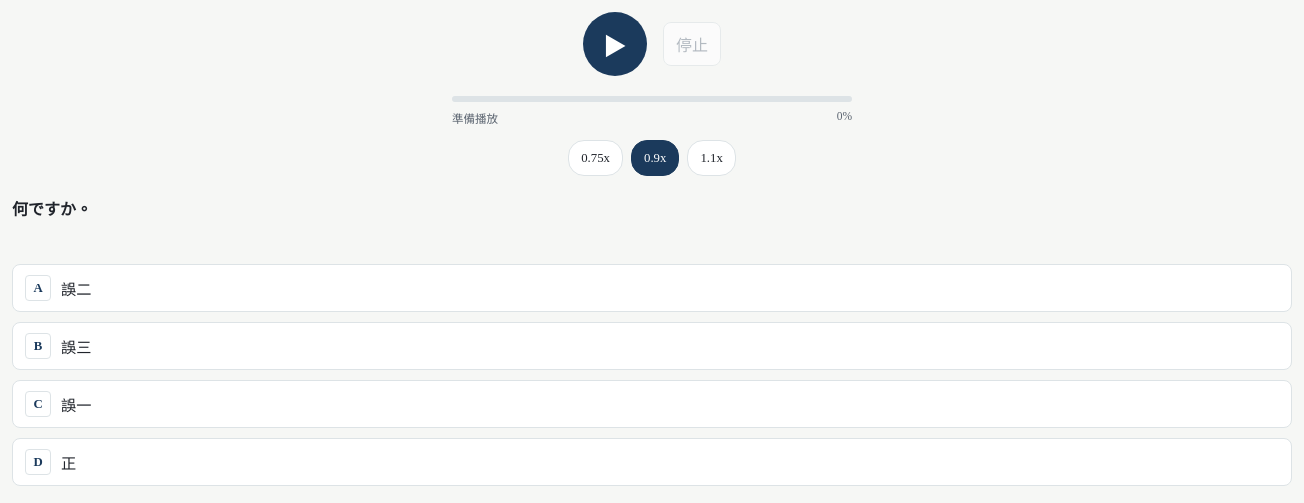
Test: pause/resume preserves progress and the same utterance; stop clears progress
Click the button "▶". click: (615, 44)
box: [583,12,647,76]
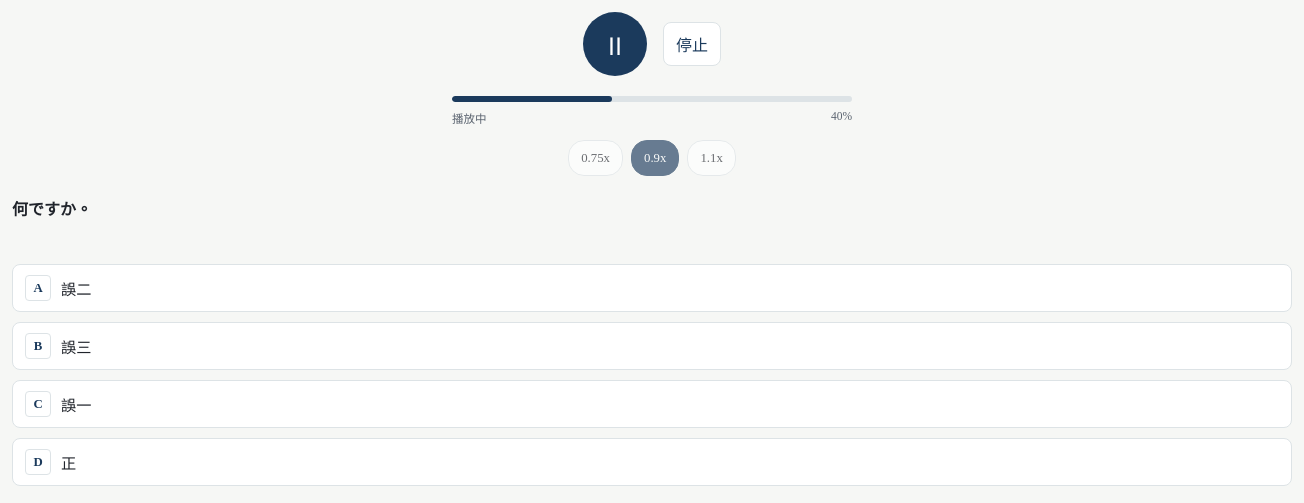
Check: the button with class "speed-btn" showing "0.75x" is disabled, box [568,140,623,176]
Click the button "Ⅱ". click: (615, 44)
box: [583,12,647,76]
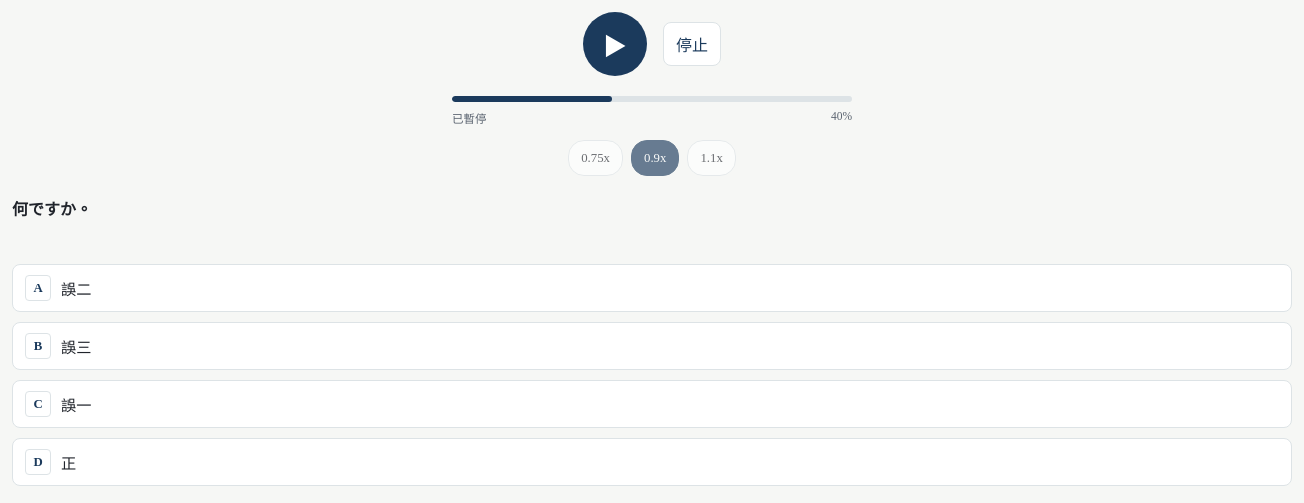
Check: the text "已暫停" is shown, box [452,110,486,130]
Click the button "▶". click: (615, 44)
box: [583,12,647,76]
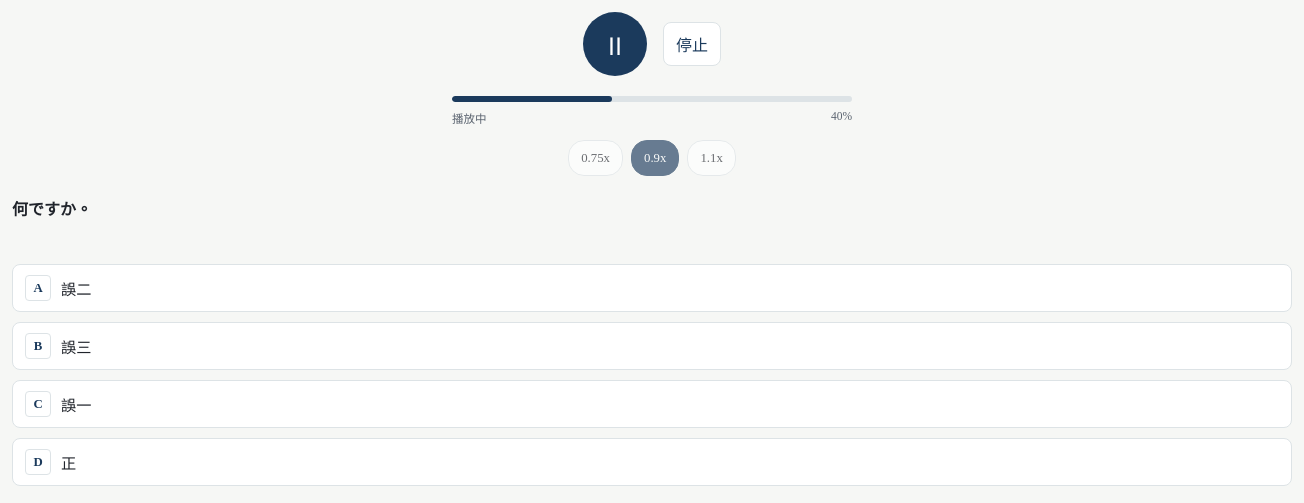
Click the button with class "speech-stop". click: (692, 44)
box: [663,22,721,66]
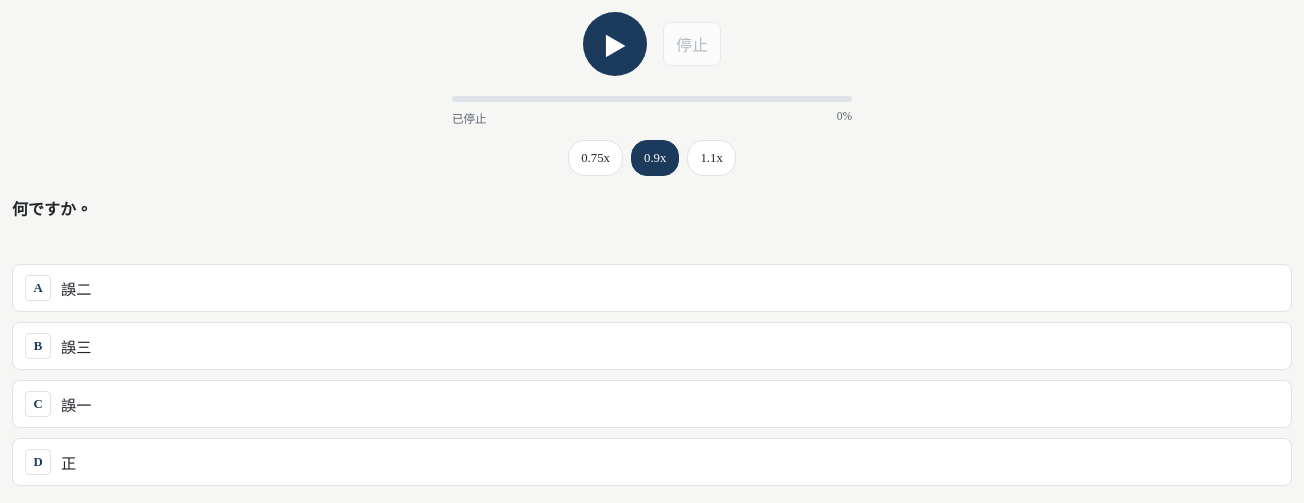
Check: the text "已停止" is shown, box [452,110,486,130]
Check: the button with class "speed-btn" showing "0.75x" is enabled, box [568,140,623,176]
